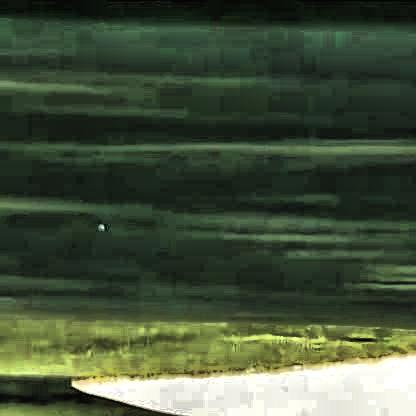golfball: (95, 218, 102, 228)
